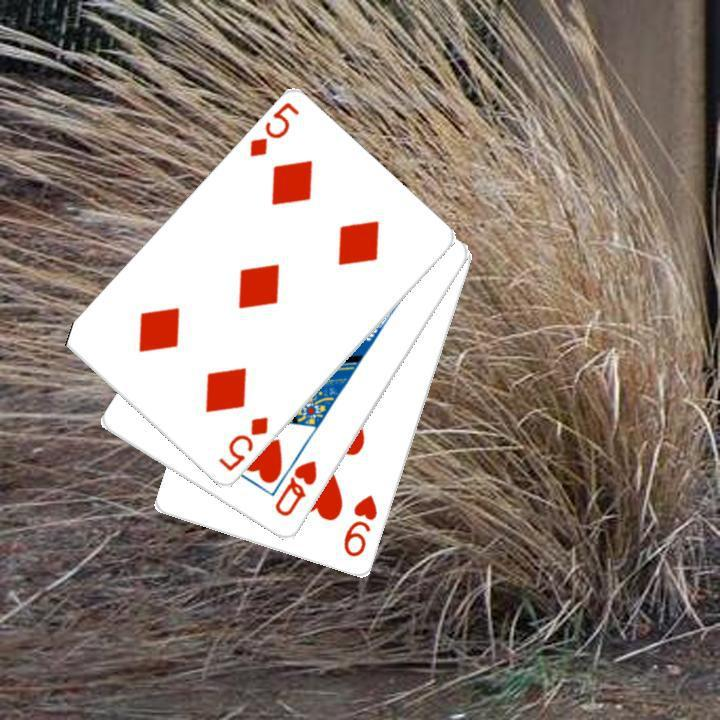5: (244, 98, 302, 160), (214, 412, 271, 474)
9: (339, 491, 380, 560)
Q: (270, 456, 320, 520)
